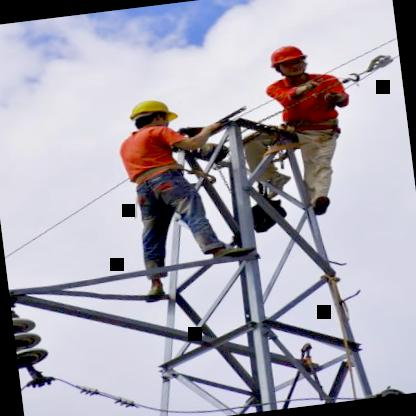helmet: (119, 90, 178, 135), (261, 37, 317, 83)
